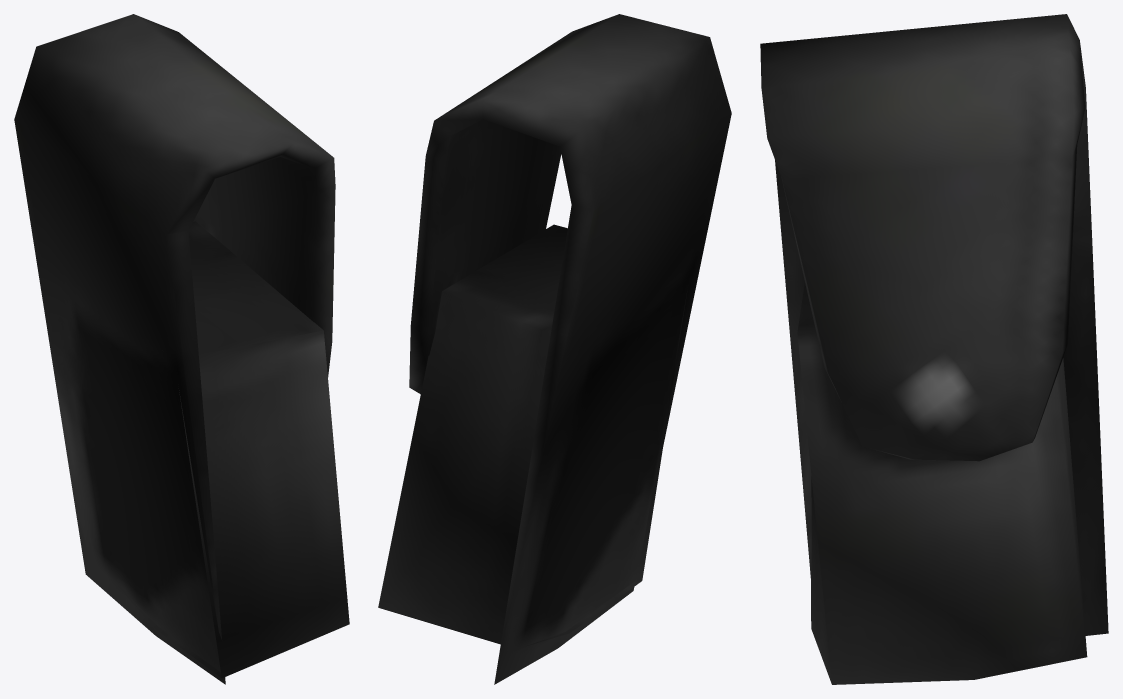
The model's file is addition_5.fbx.
3 views of the same model, side by side, from view 1: azimuth 30°, elevation 25°; view 2: azimuth 150°, elevation 25°; view 3: azimuth 270°, elevation 25° (orthographic). The views are drawn at different scales.
Visible parts, largest first — view 1: addition_5_lod0; view 2: addition_5_lod0; view 3: addition_5_lod0.
Boxes of the visible parts, bbox=[...] form: addition_5_lod0: bbox=[14, 14, 349, 684]; addition_5_lod0: bbox=[378, 14, 731, 684]; addition_5_lod0: bbox=[760, 14, 1108, 684].
Size of what is drawn, in the model's own units: 5.8 by 14.76 by 7.7.
